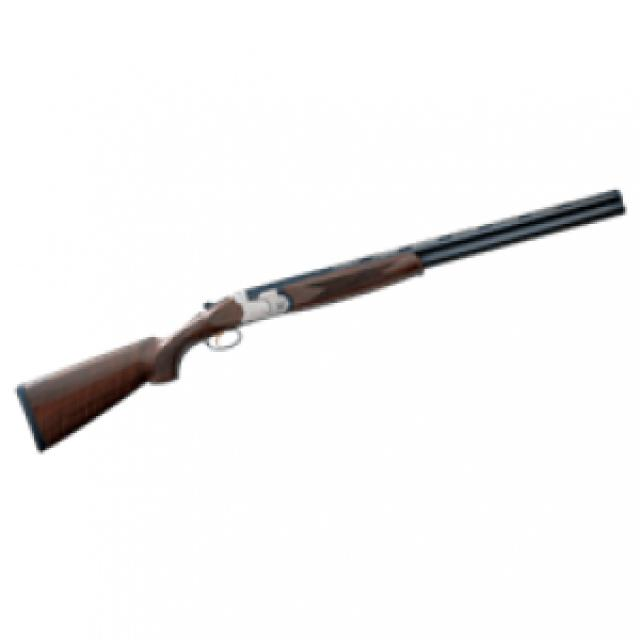rifle: (14, 176, 631, 464)
